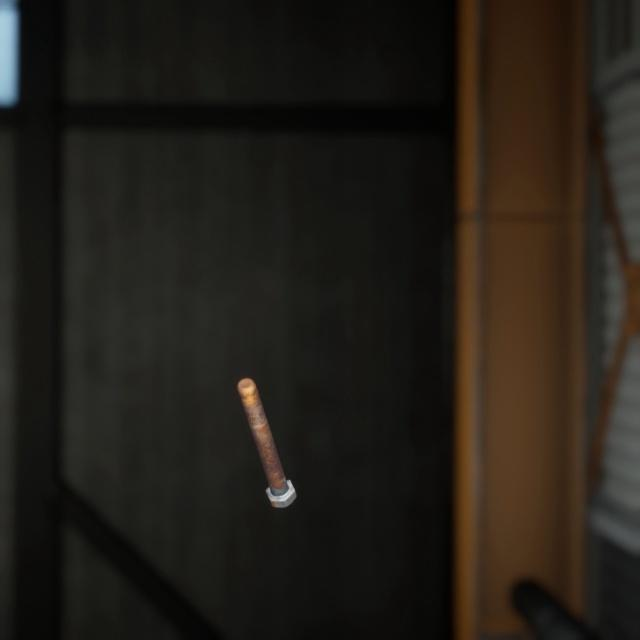bolt: (233, 352, 301, 491)
